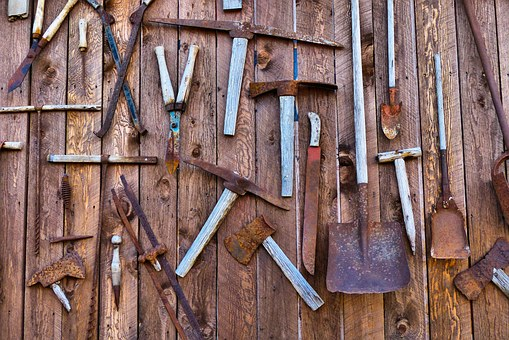rust: (326, 188, 416, 301), (143, 16, 344, 50), (428, 152, 476, 262), (178, 154, 258, 200), (6, 39, 54, 97), (240, 75, 344, 99), (227, 215, 277, 264), (373, 92, 410, 145), (25, 253, 91, 282), (476, 237, 508, 285), (120, 151, 164, 174)
